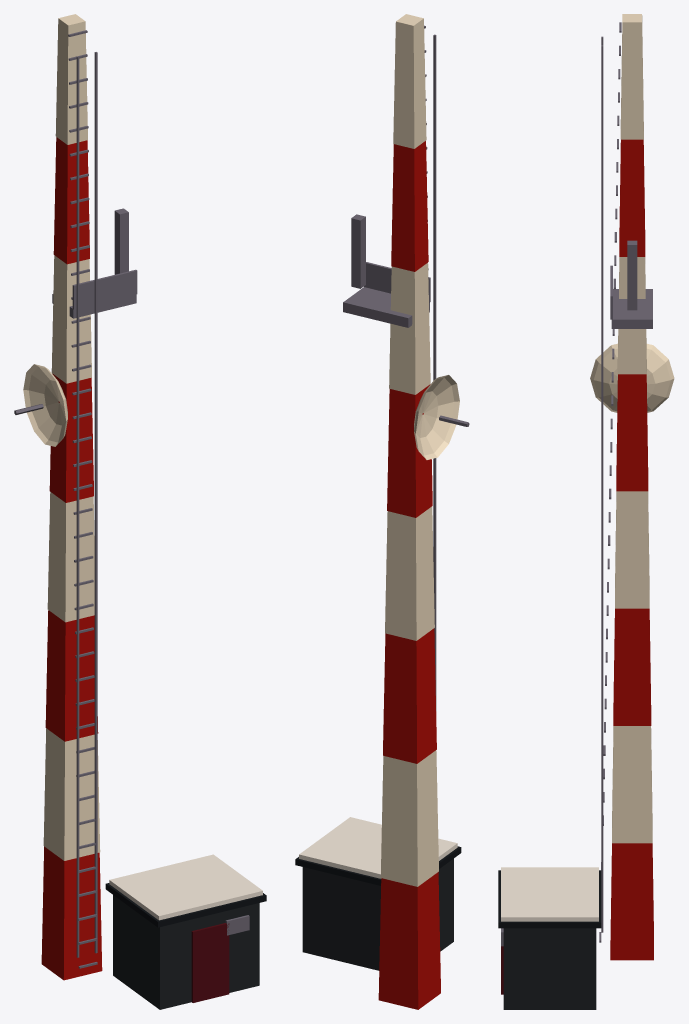
File: rs_mast.glb
3 renders of one model, left to right at view 1: azimuth 30°, elevation 25°; view 2: azimuth 150°, elevation 25°; view 3: azimuth 270°, elevation 25°, orthographic. The views are drawn at different scales.
Parts seen in each view (by area): view 1: mast; view 2: mast; view 3: mast.
Boxes of the visible parts, bbox=[...] form: mast: bbox=[14, 14, 266, 1009]; mast: bbox=[295, 14, 469, 1009]; mast: bbox=[498, 14, 674, 1009].
Size of the model in its own units: 4.05 by 20 by 3.42.
